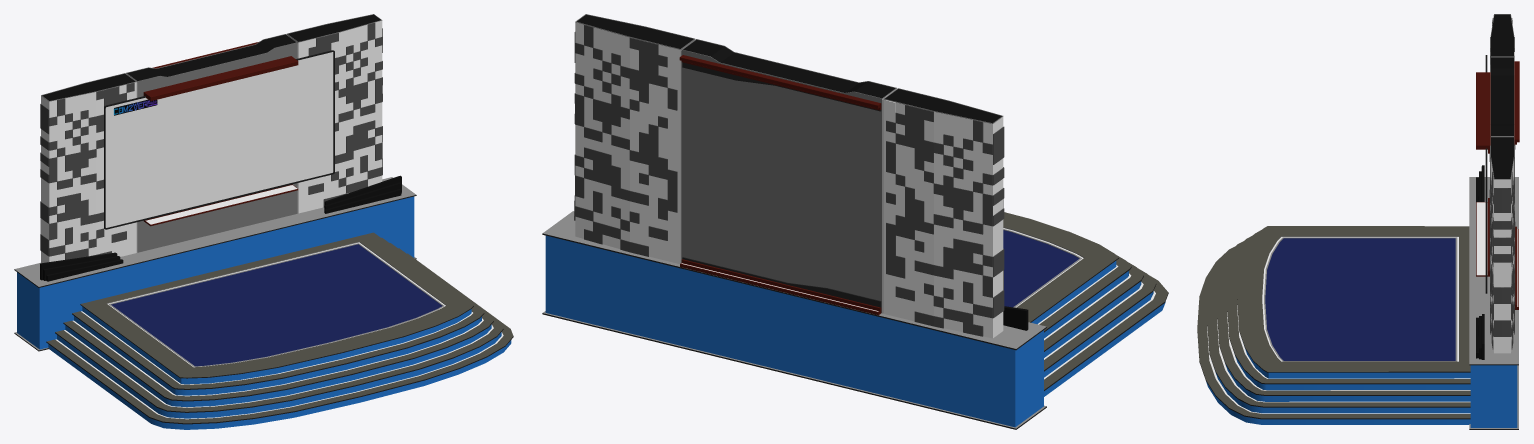
The model's file is W_O_Text_Board_01_L0.fbx.
3 renders of one model, left to right at view 1: azimuth 30°, elevation 25°; view 2: azimuth 150°, elevation 25°; view 3: azimuth 270°, elevation 25°, orthographic. The views are drawn at different scales.
Visible parts, largest first — view 1: W_O_Text_Board_01_L0; view 2: W_O_Text_Board_01_L0; view 3: W_O_Text_Board_01_L0.
Boxes of the visible parts, bbox=[...] form: W_O_Text_Board_01_L0: bbox=[14, 14, 513, 429]; W_O_Text_Board_01_L0: bbox=[542, 14, 1168, 429]; W_O_Text_Board_01_L0: bbox=[1197, 14, 1519, 429].
Size of the model in its own units: 9.16 by 6.66 by 5.46.
Materials: 5 (1 with a texture image).
